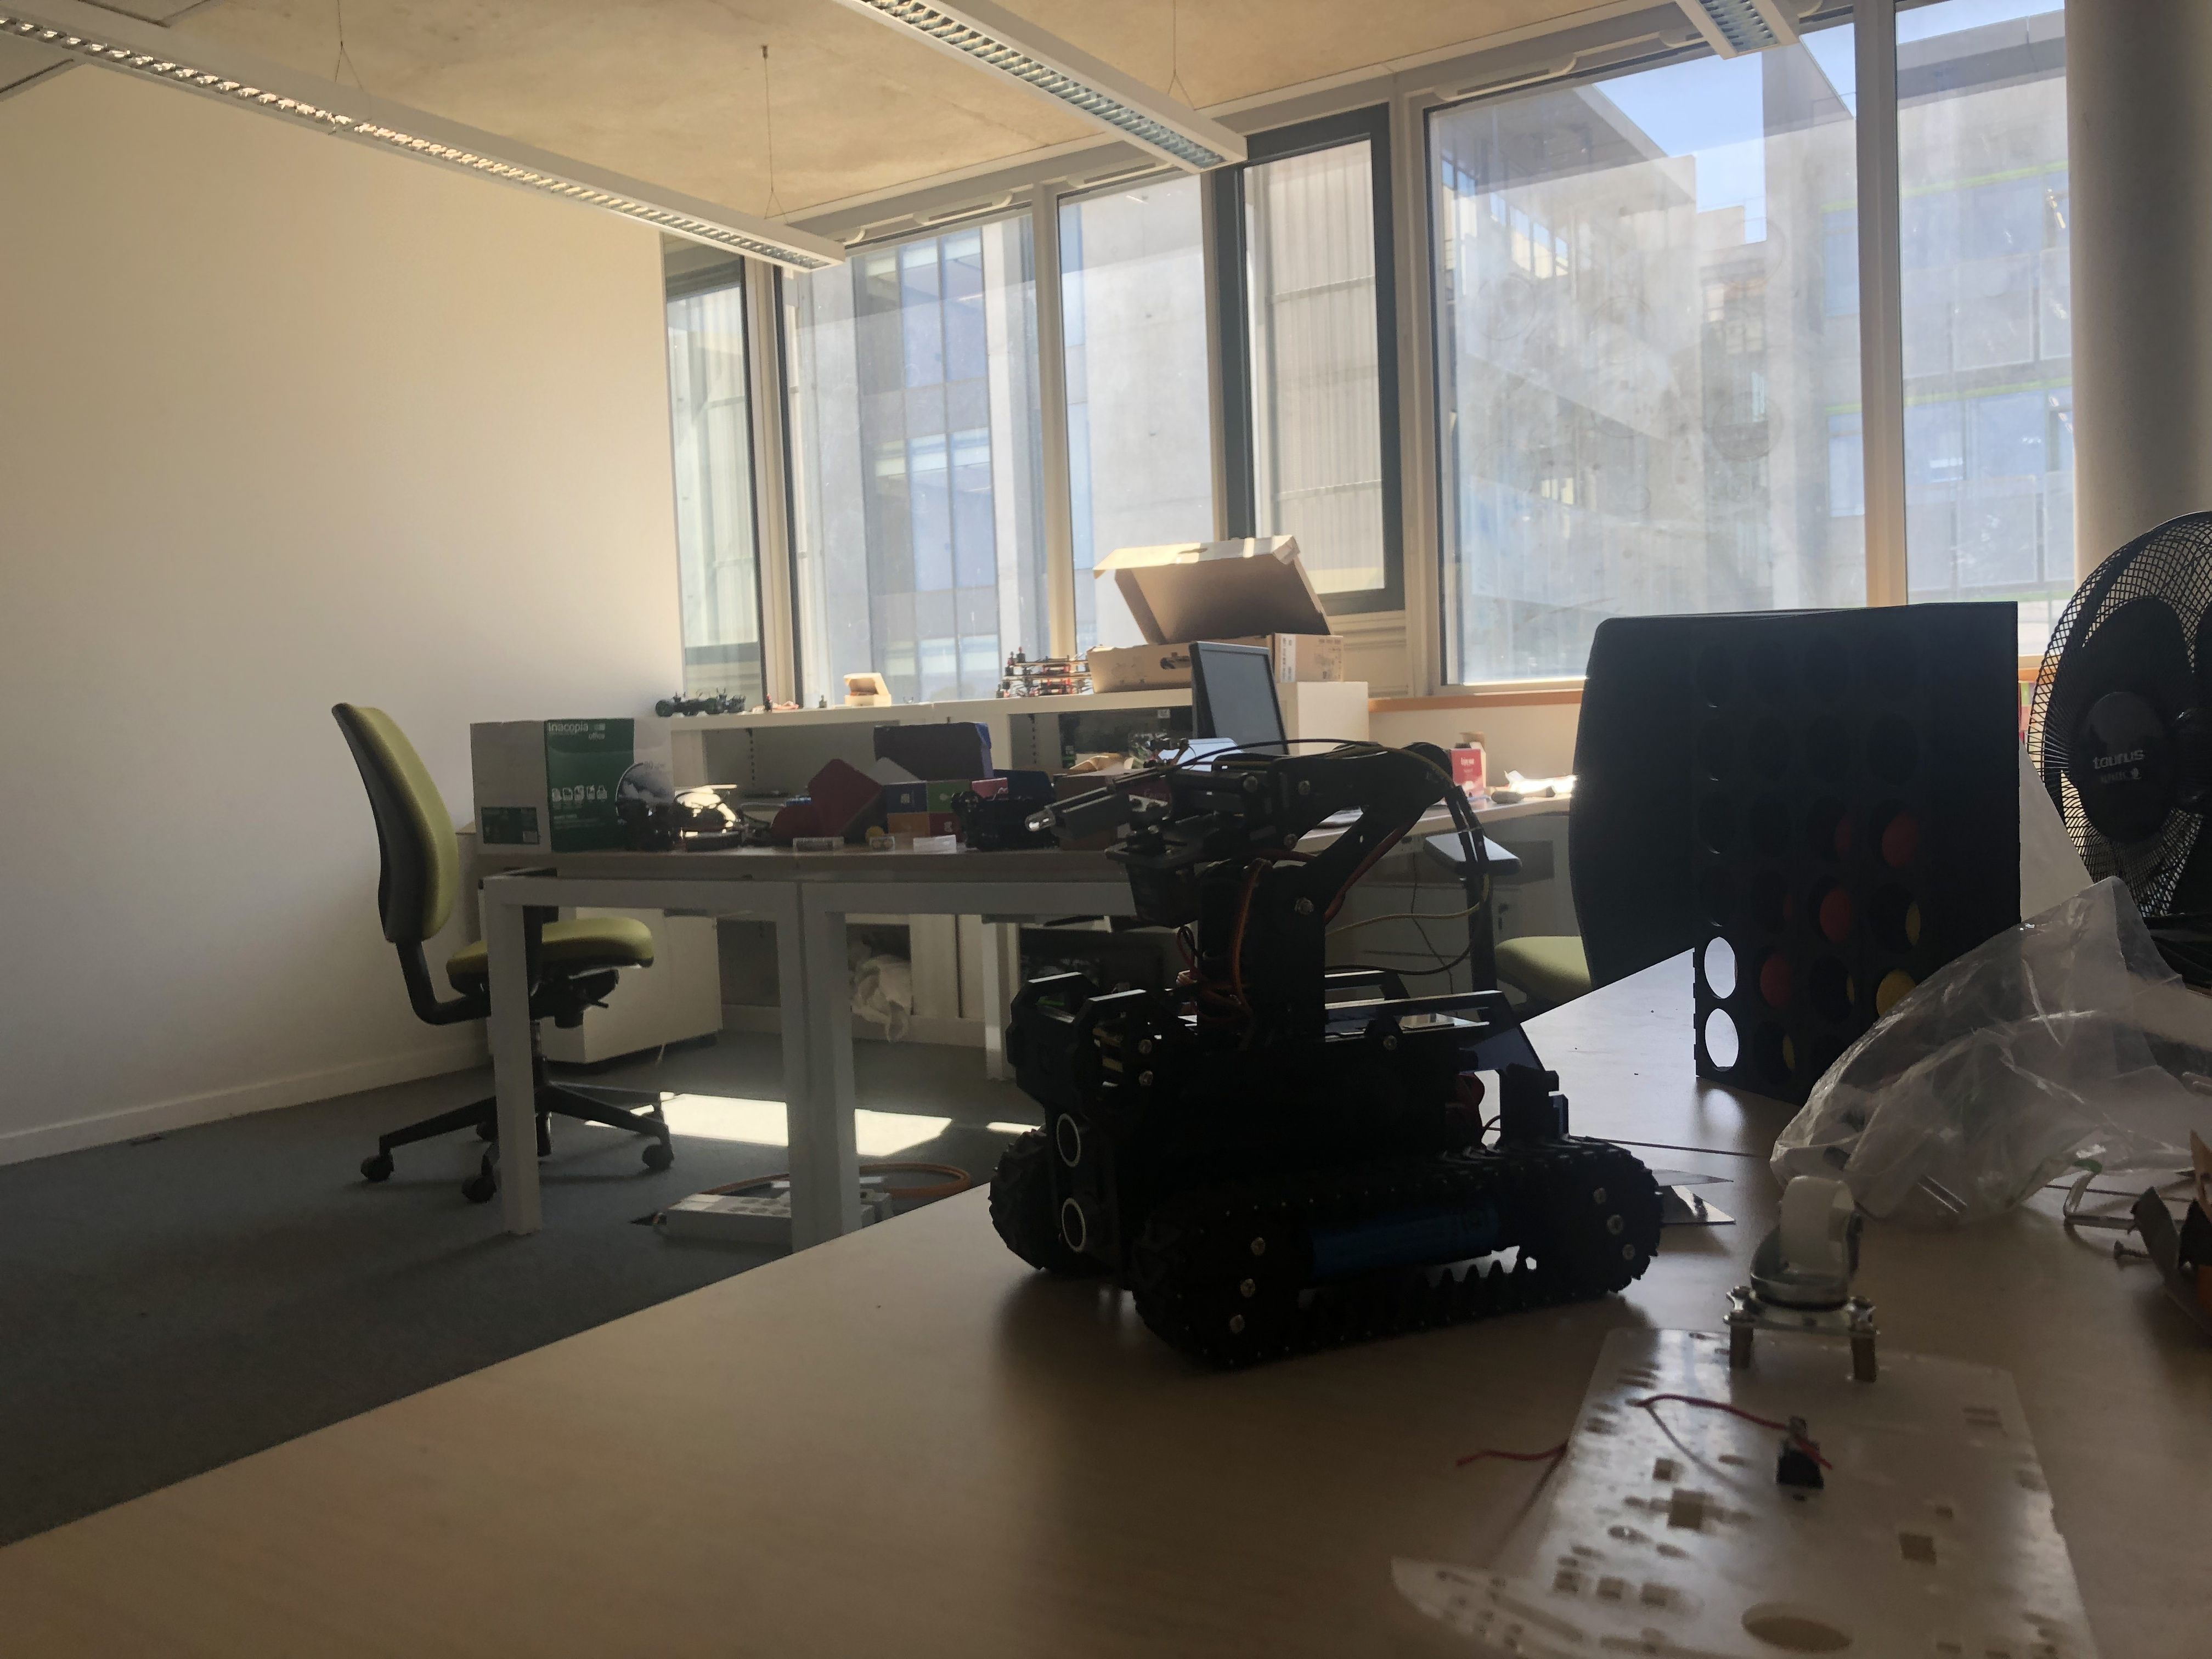rasptank: (988, 735, 1665, 1347)
